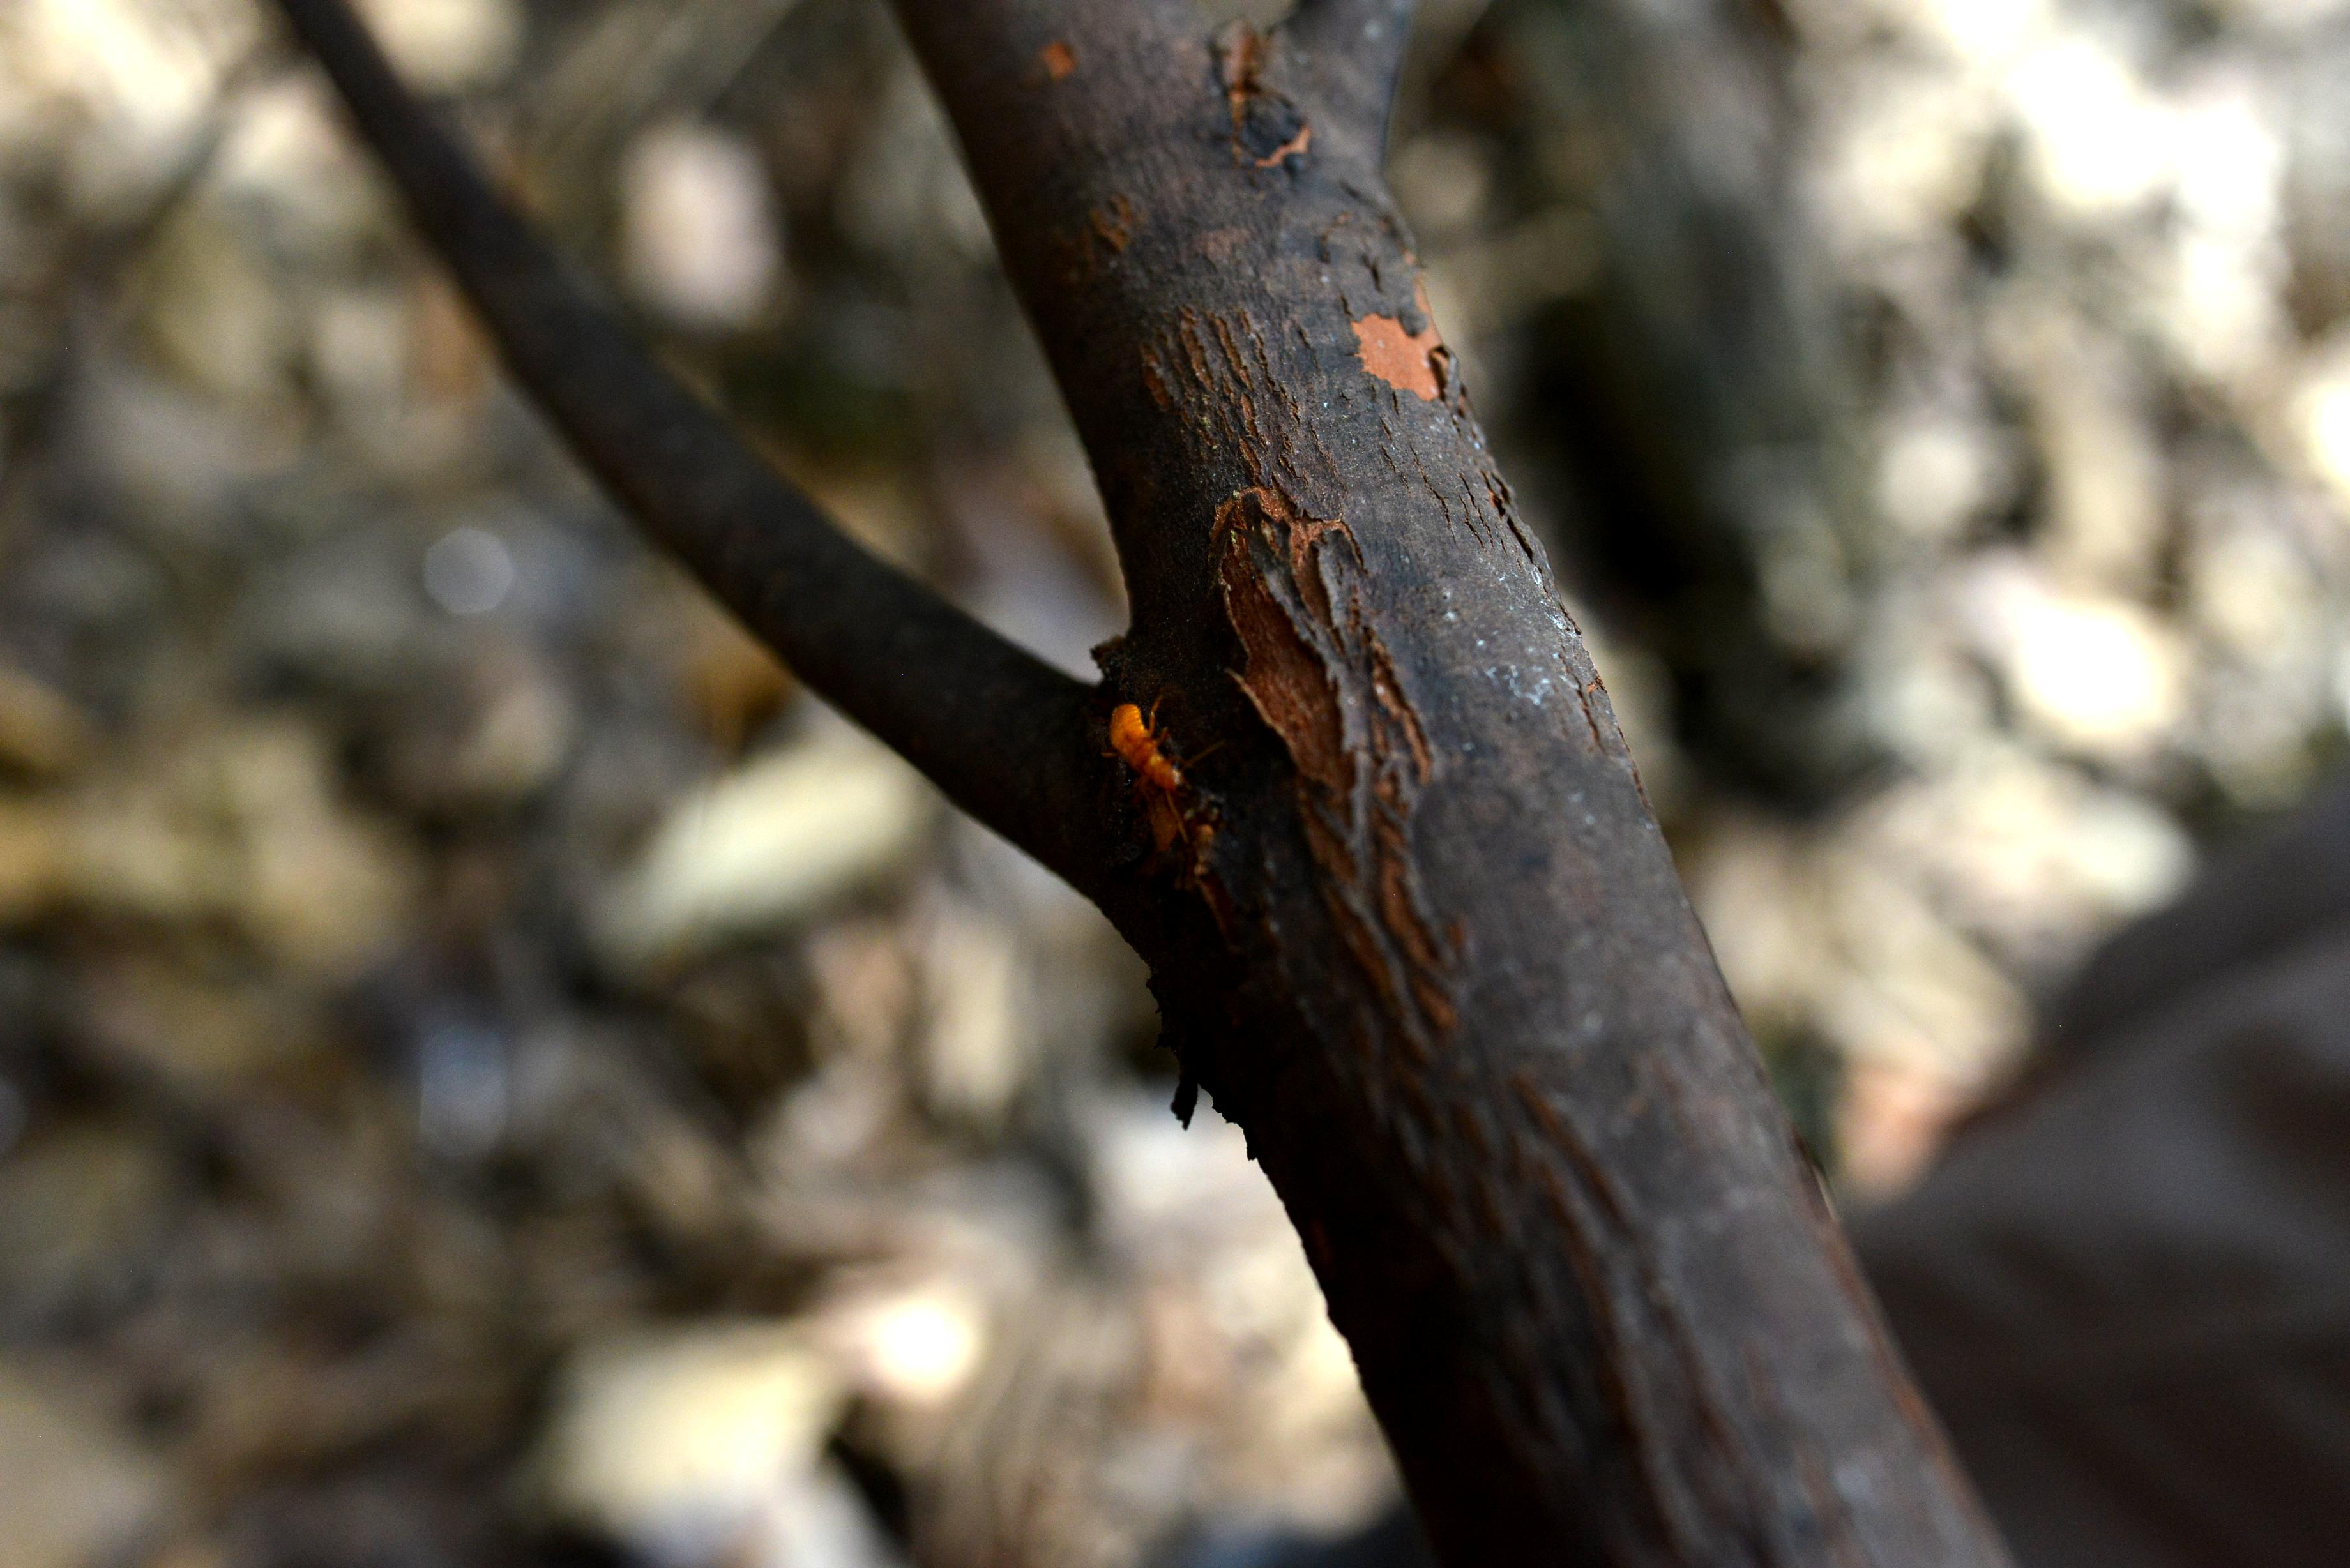Termite: (1095, 688, 1209, 819)
